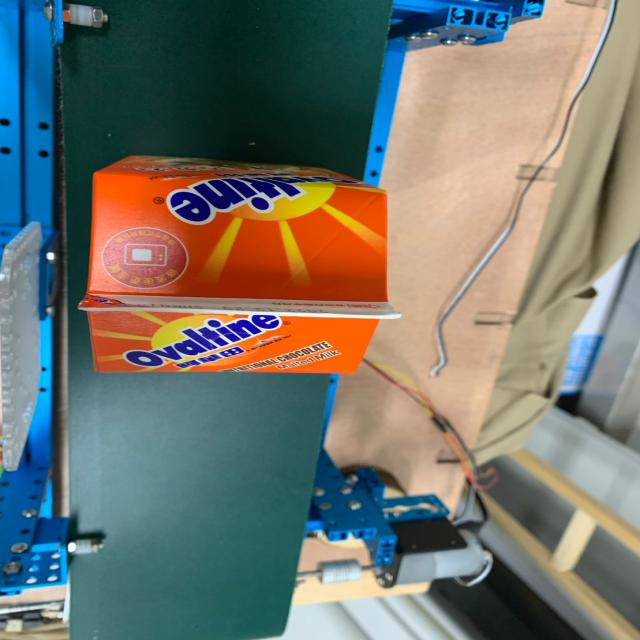non_white_jug: (52, 136, 409, 402)
